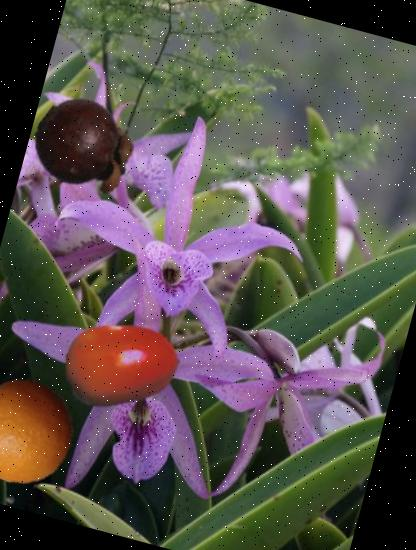Kaki: (52, 296, 194, 437)
Mangostan: (22, 84, 148, 210)
Orange: (0, 367, 87, 496)
